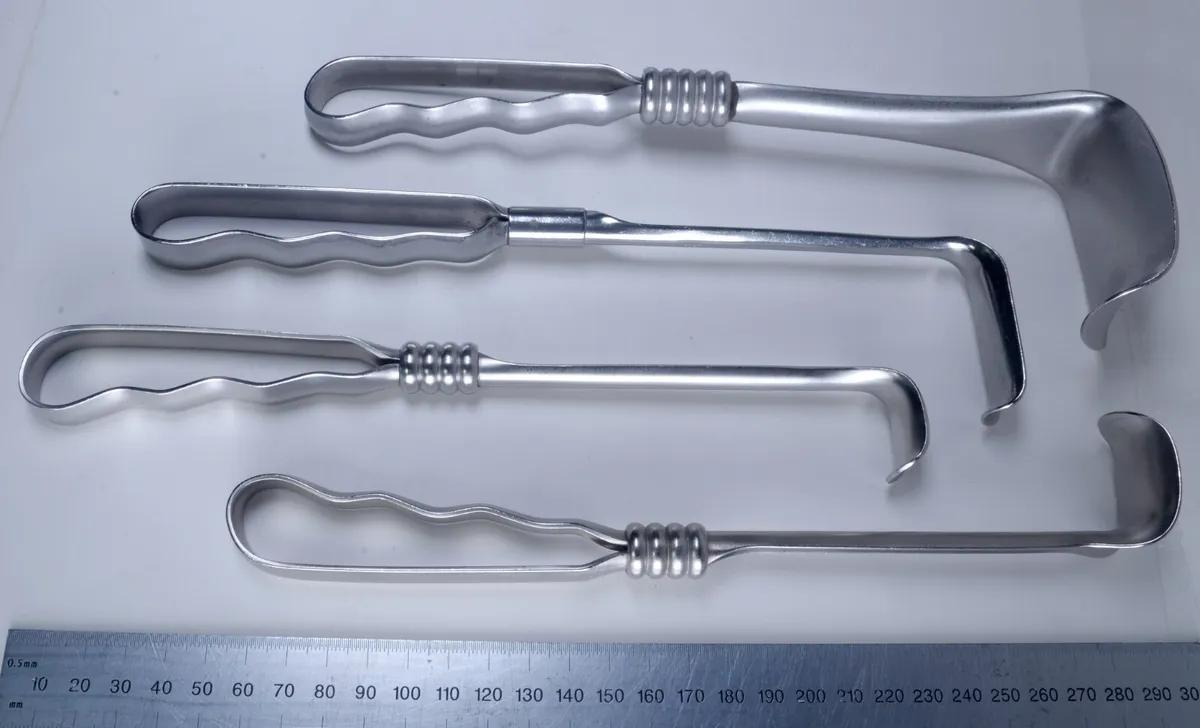Kelly Retractor: (297, 33, 1180, 312), (112, 163, 1039, 418), (221, 399, 1190, 583), (14, 317, 932, 488)
